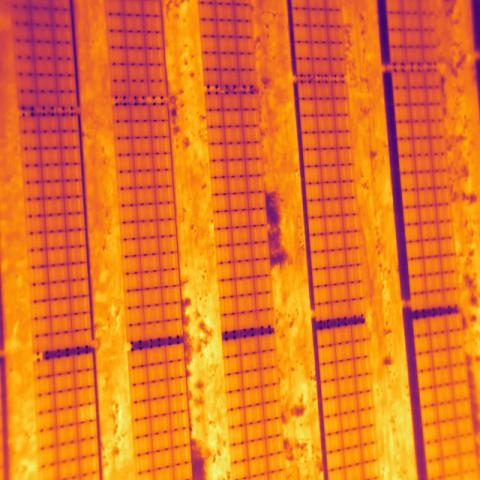fault: (76, 403, 97, 425)
